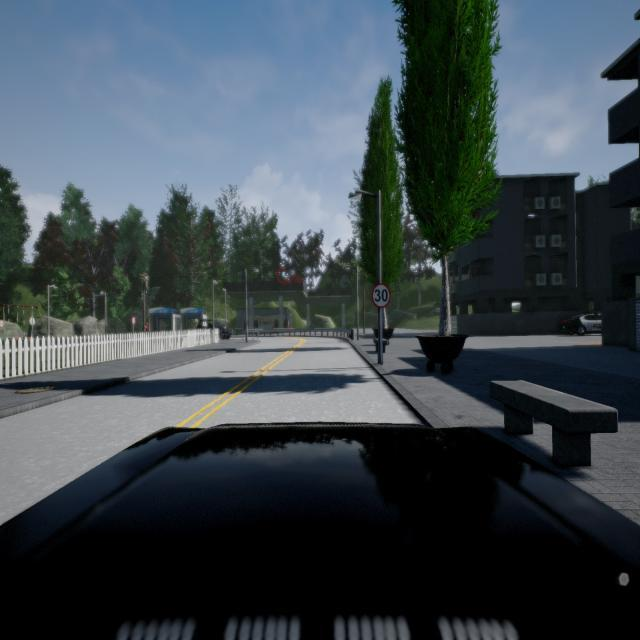Speed Limit -30-: (372, 282, 392, 310)
